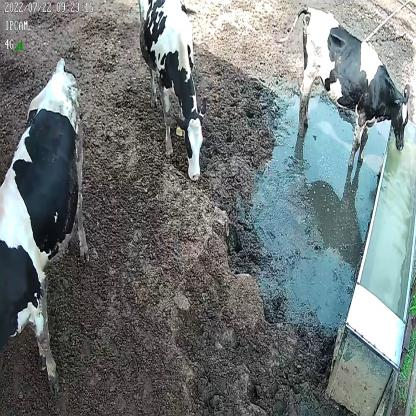cow: (0, 55, 88, 392), (273, 5, 411, 172), (136, 0, 209, 181)
